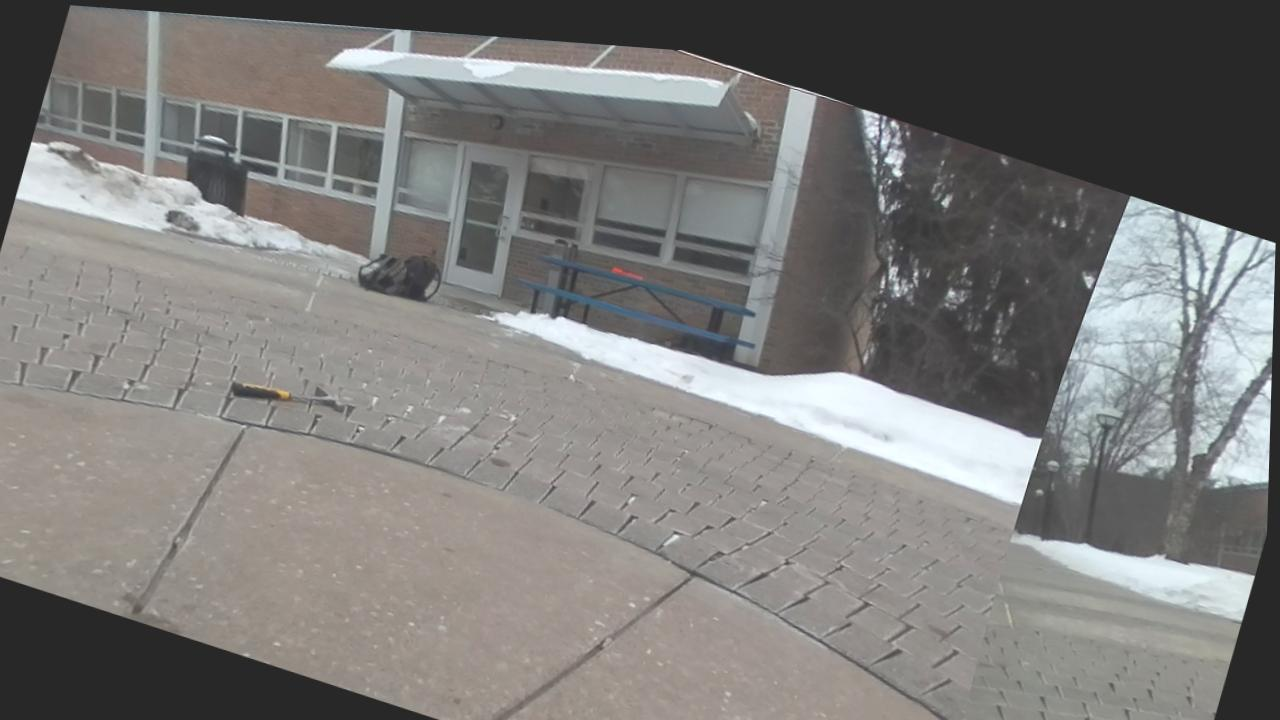pick: (230, 382, 347, 412)
